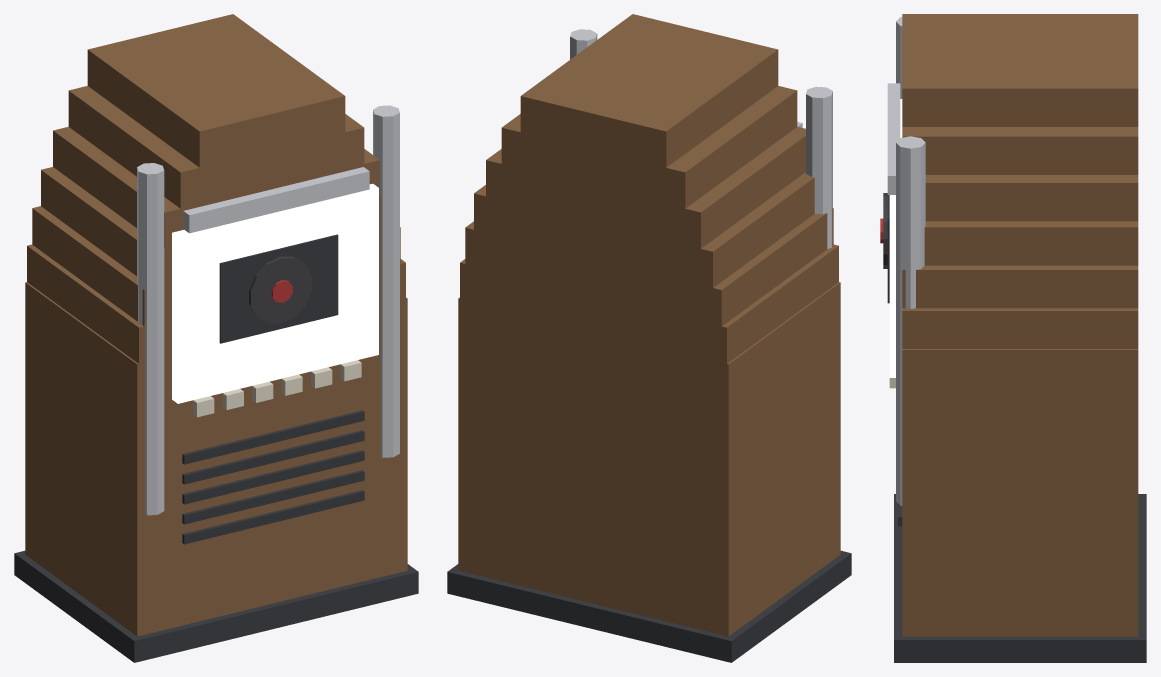
The model's file is jukebox.glb.
3 renders of one model, left to right at view 1: azimuth 30°, elevation 25°; view 2: azimuth 150°, elevation 25°; view 3: azimuth 270°, elevation 25°, orthographic. The views are drawn at different scales.
Visible parts, largest first — view 1: jukebox; view 2: jukebox; view 3: jukebox.
Boxes of the visible parts, left/top/right/bottom form: jukebox: left=14, top=14, right=418, bottom=662; jukebox: left=447, top=14, right=851, bottom=662; jukebox: left=880, top=14, right=1146, bottom=662.
Bounding box in the file's own units: 0.82 × 1.41 × 0.6325.
